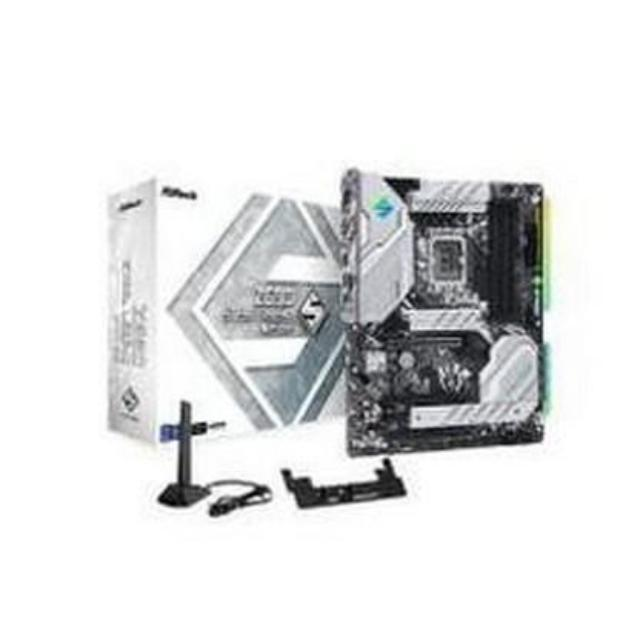Mainboard: (332, 158, 562, 462)
